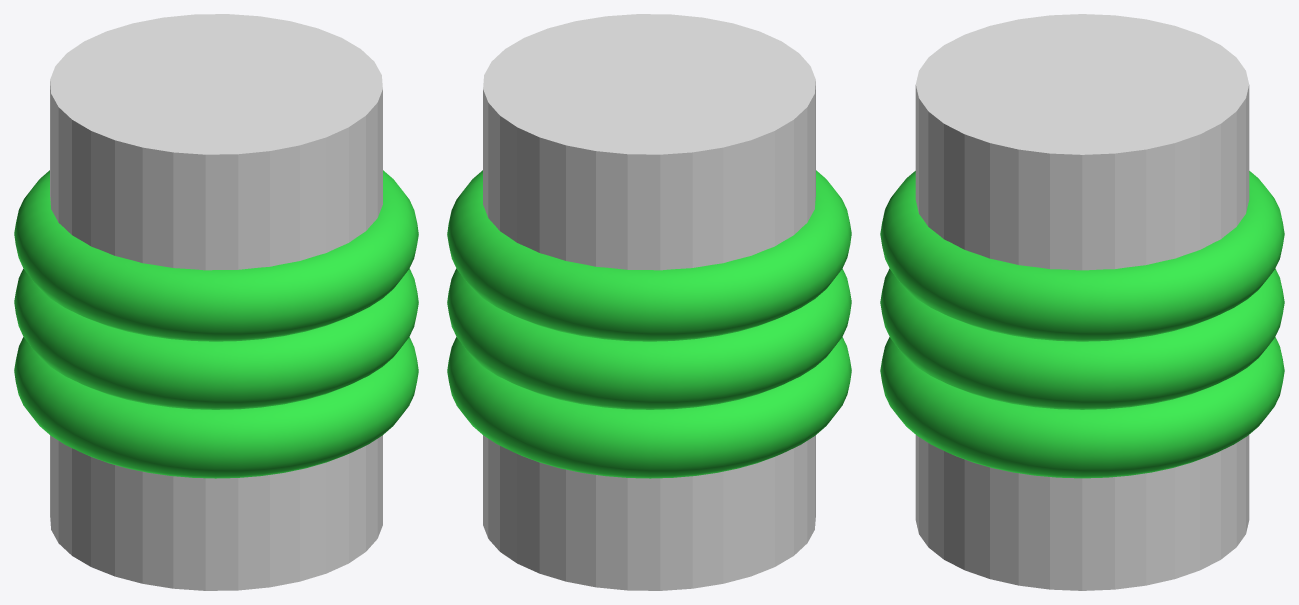
3 renders of one model, left to right at view 1: azimuth 30°, elevation 25°; view 2: azimuth 150°, elevation 25°; view 3: azimuth 270°, elevation 25°, orthographic.
Visible parts, largest first — view 1: Cylinder.002, BézierCircle.001; view 2: Cylinder.002, BézierCircle.001; view 3: Cylinder.002, BézierCircle.001.
Part boxes in pixels (x1,y1,x2,y2): Cylinder.002: [50, 14, 382, 590]; BézierCircle.001: [14, 170, 418, 478]; Cylinder.002: [483, 14, 815, 590]; BézierCircle.001: [447, 170, 851, 478]; Cylinder.002: [915, 14, 1249, 590]; BézierCircle.001: [880, 171, 1284, 478].
Bounding box in the file's own units: 243 × 289 × 243.
